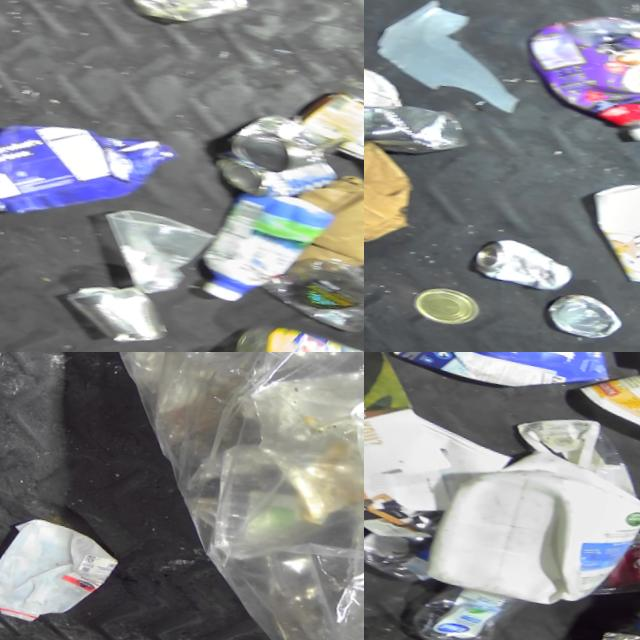can: (206, 146, 340, 219), (220, 108, 335, 193), (52, 275, 175, 352), (364, 91, 477, 173), (461, 227, 581, 304), (283, 85, 364, 177), (537, 286, 631, 352), (582, 529, 640, 616), (364, 48, 410, 147), (406, 280, 487, 336)
milk_jug: (415, 430, 640, 632), (0, 505, 123, 640)
non_white_jug: (0, 103, 186, 253), (186, 183, 340, 327), (510, 0, 640, 162), (373, 352, 618, 417)
plastic_bottle: (88, 0, 267, 45), (402, 580, 529, 640), (219, 314, 364, 352), (364, 523, 432, 591)
